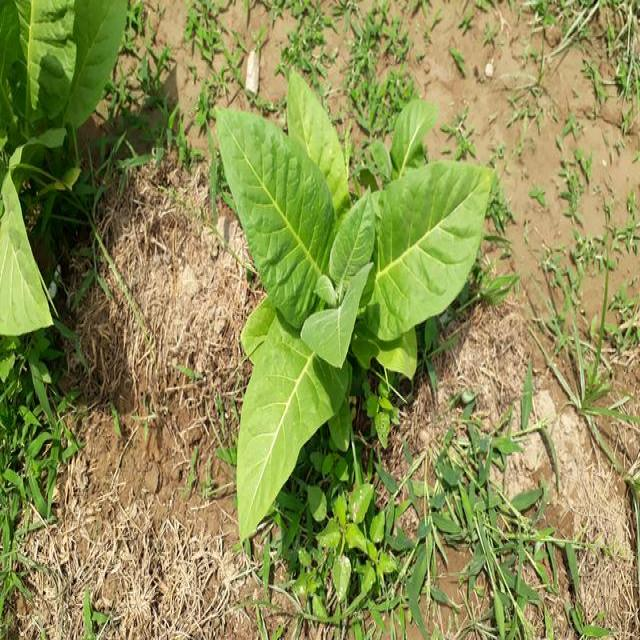crop: (222, 84, 482, 517), (10, 0, 101, 344)
